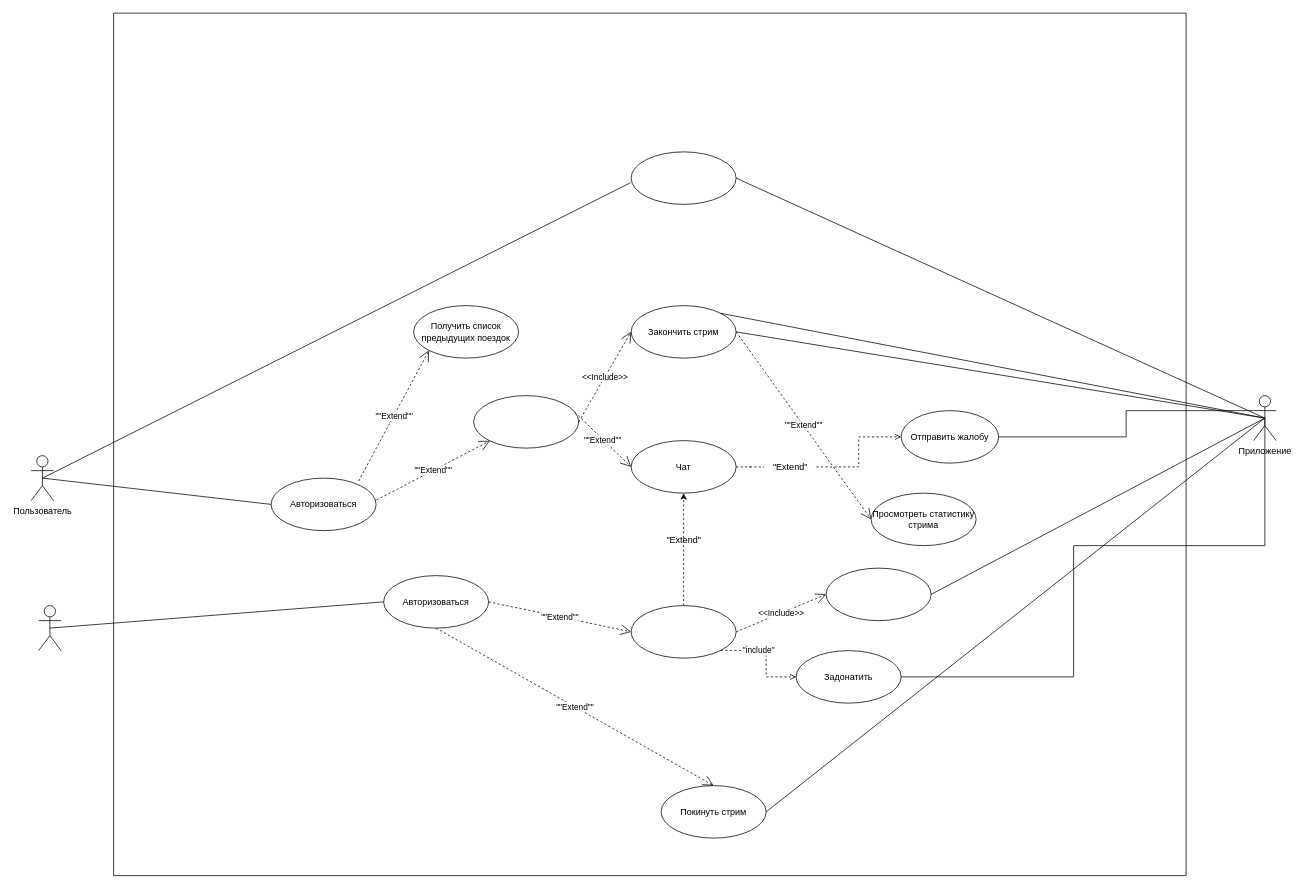
This 1304x889 diagram has some shape labels left out. The centre of each missing label's shape, as x and y in pixels:
"Аудитория" goes at pixel 49 628.
"Зайти на стрим" goes at pixel 683 631.
"Запустить стрим" goes at pixel 526 421.
"Зарегистрироваться" goes at pixel 683 177.
"Подписаться" goes at pixel 878 594.
